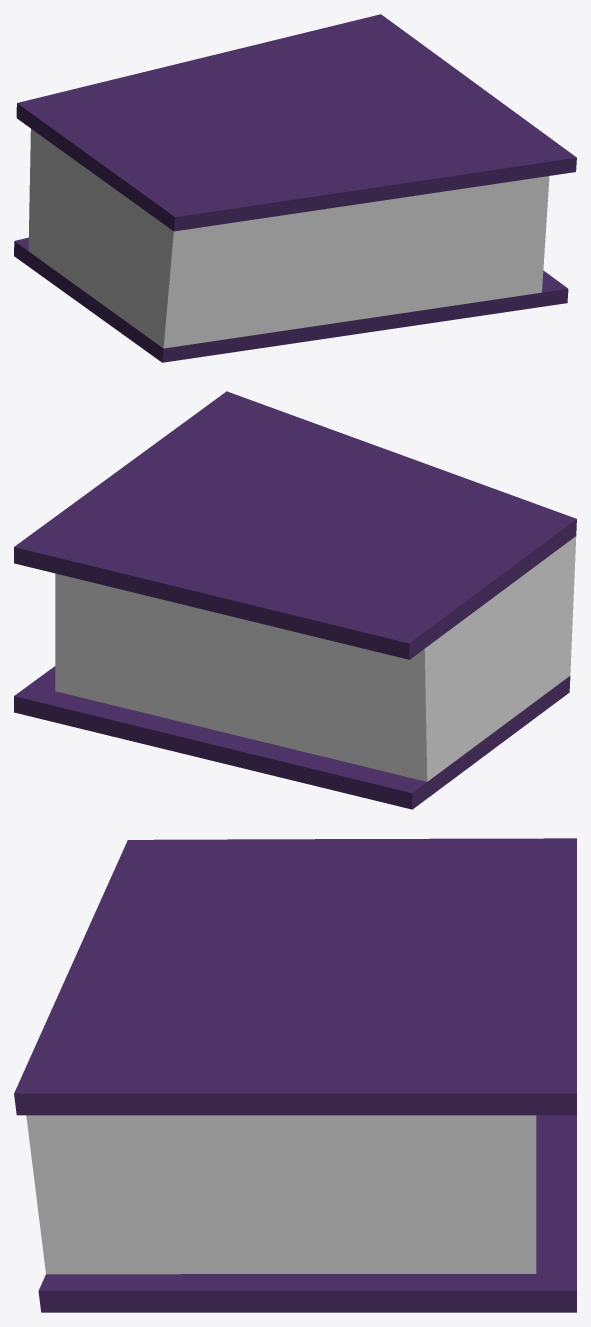
The model's file is Livre_Part_1.fbx.
The picture shows the model from 3 angles, top to bottom: view 1: azimuth 30°, elevation 25°; view 2: azimuth 150°, elevation 25°; view 3: azimuth 270°, elevation 25°; orthographic projection. The views are drawn at different scales.
Visible parts, largest first — view 1: Livre_Part_1; view 2: Livre_Part_1; view 3: Livre_Part_1.
Boxes of the visible parts, x1,y1,x2,y2 form: Livre_Part_1: [14, 14, 576, 362]; Livre_Part_1: [14, 391, 576, 809]; Livre_Part_1: [14, 838, 576, 1312].
Bounding box in the file's own units: 15.77 × 6.26 × 14.58.
